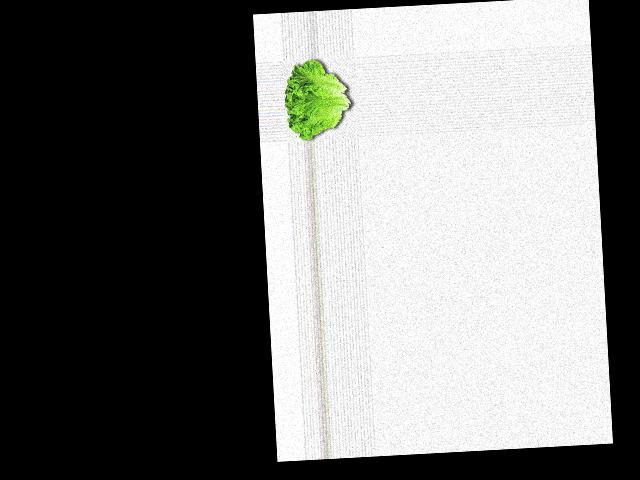lettuce: (283, 55, 354, 139)
